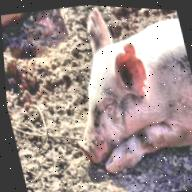boar: (44, 3, 192, 183)
